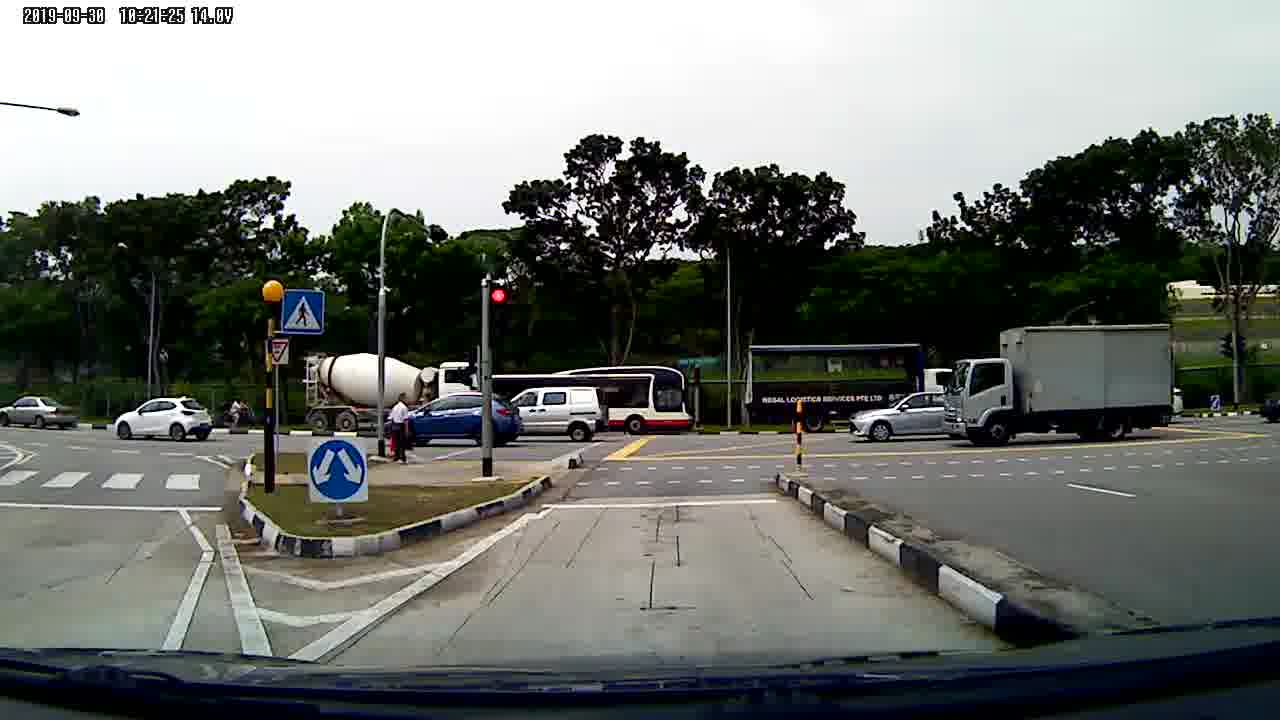bus: (491, 360, 694, 435)
car: (404, 394, 526, 452), (113, 396, 216, 446), (851, 391, 946, 444), (1, 393, 79, 435)
